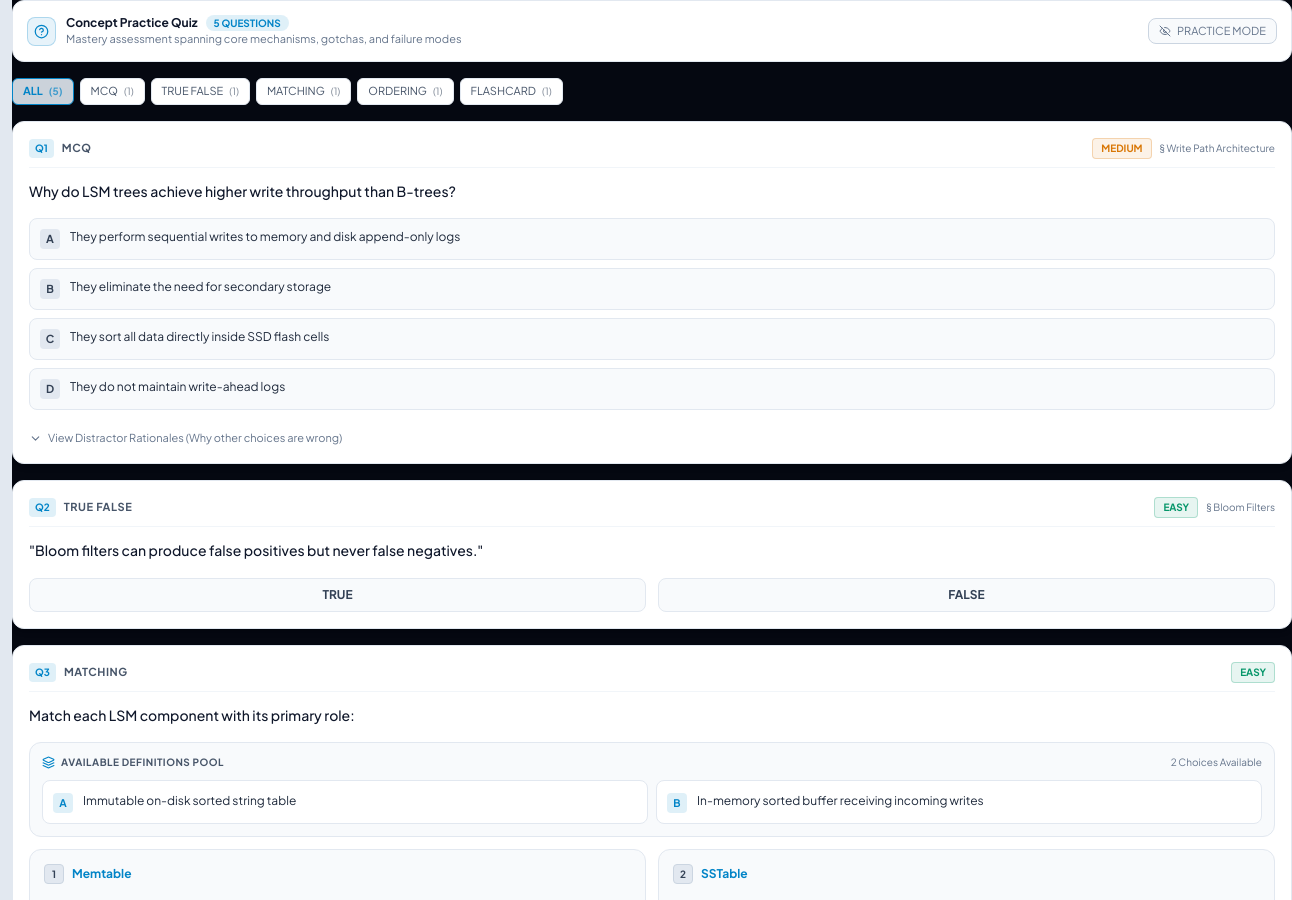
QuizViewer Component › renders TRUE_FALSE questions with answer validation and explanation
The width and height of the screenshot is (1292, 900).
Check: the text "\"Bloom filters can produce false positives but never false negatives.\"" is shown, box [29, 541, 483, 559]
Check: the text "If a Bloom filter says an element is absent" is not shown
// Click TRUE to validate
Click the button "TRUE" at point(338, 594), box [29, 578, 646, 612]
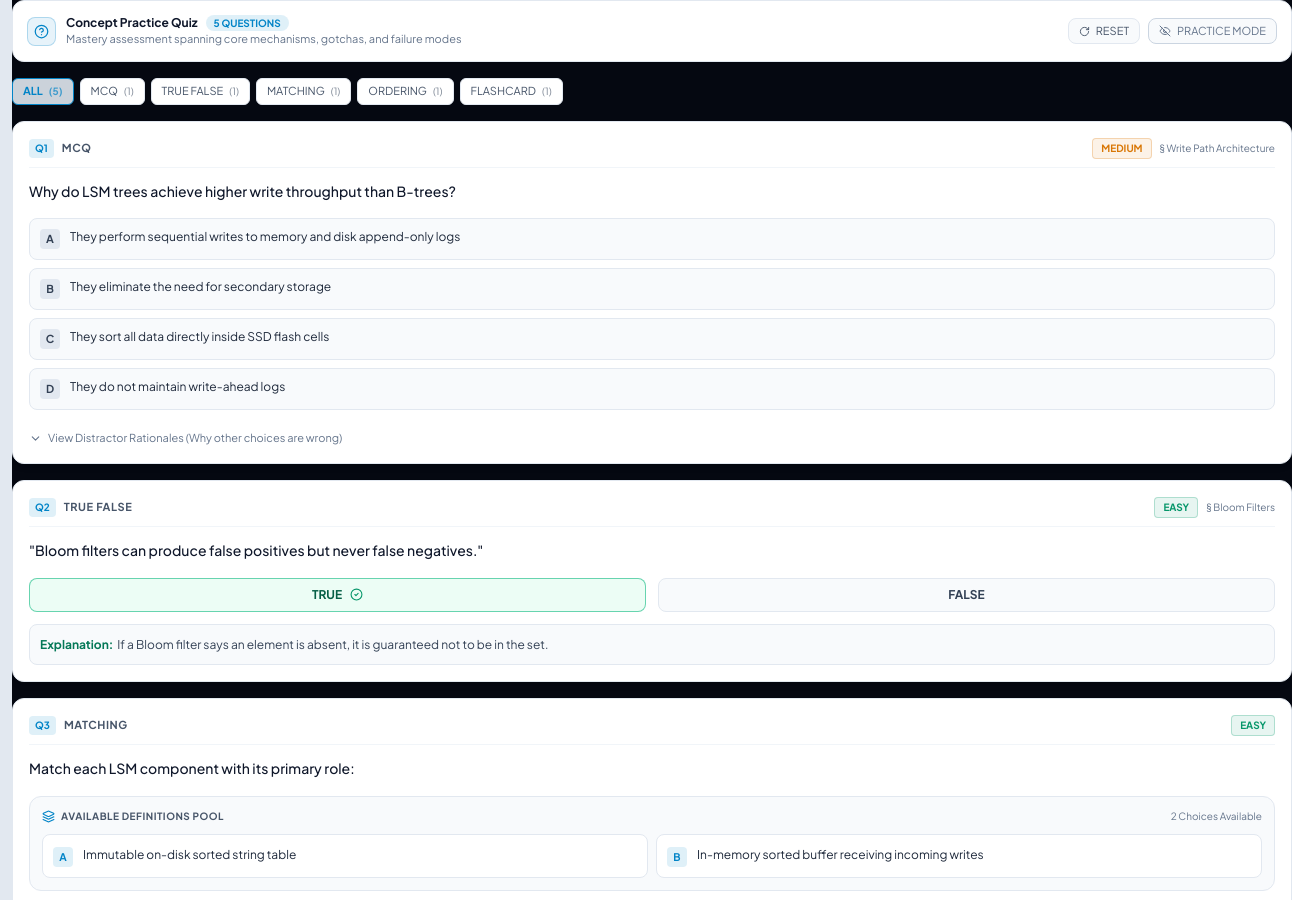
Check: the text "If a Bloom filter says an element is absent" is shown, box [117, 636, 548, 652]
